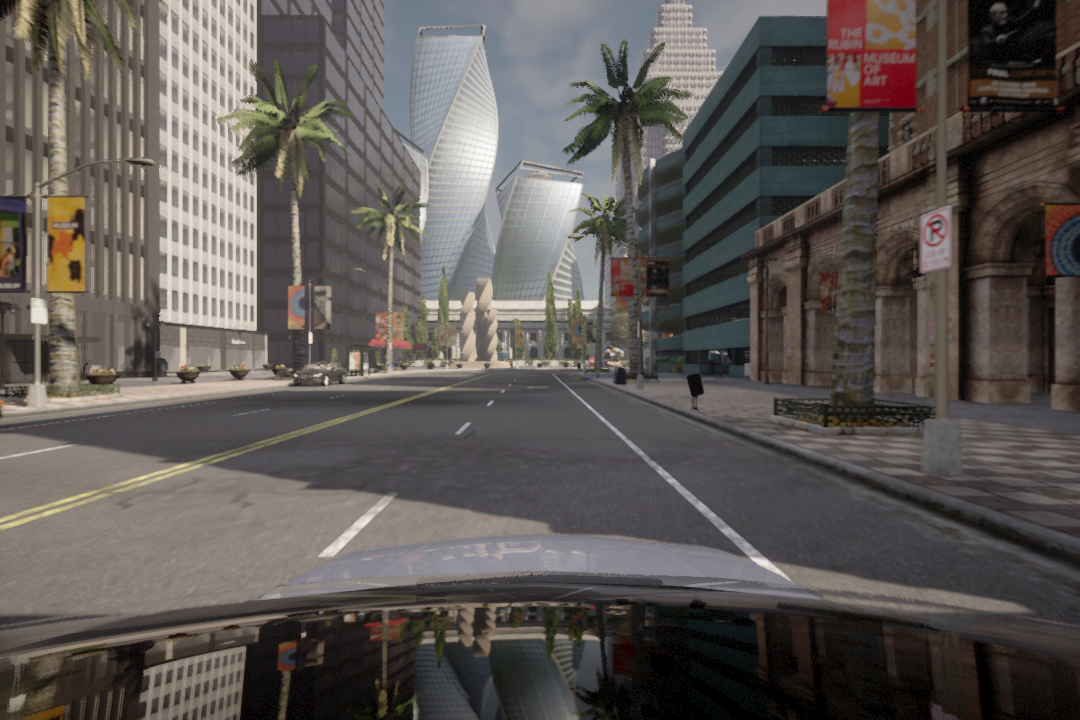TrafficSign_nstop: (914, 204, 956, 272)
